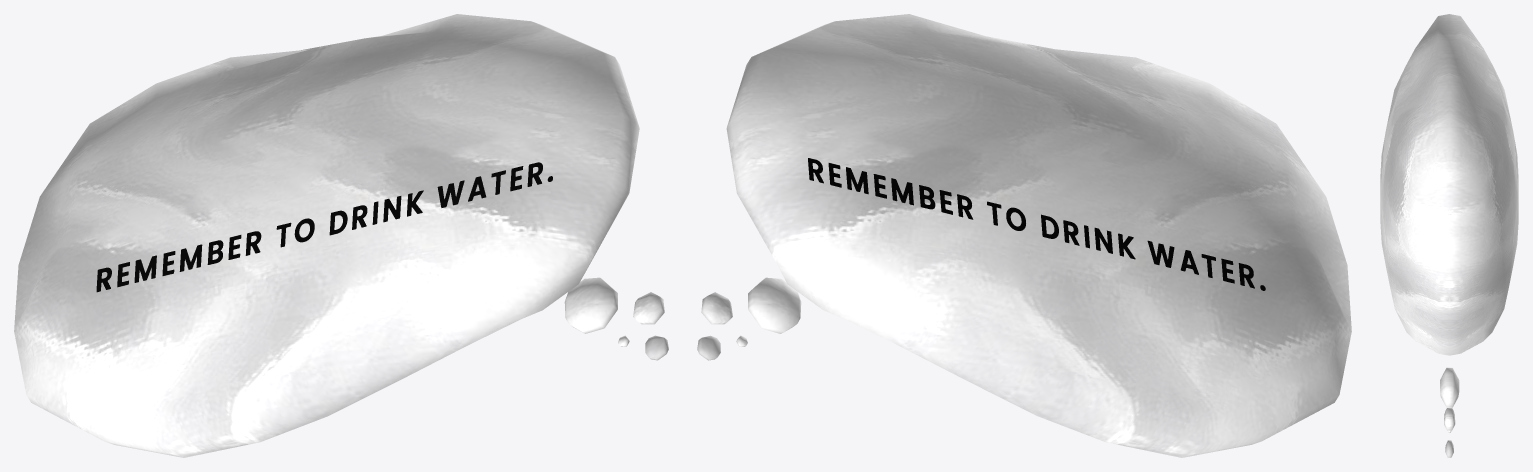
The model's file is s0_AG_BillboardText_03_Art_01.glb.
3 renders of one model, left to right at view 1: azimuth 30°, elevation 25°; view 2: azimuth 150°, elevation 25°; view 3: azimuth 270°, elevation 25°, orthographic. The views are drawn at different scales.
Visible parts, largest first — view 1: node_AG_BillboardText_03_Art; view 2: node_AG_BillboardText_03_Art; view 3: node_AG_BillboardText_03_Art.
Boxes of the visible parts, x1=… form: node_AG_BillboardText_03_Art: x1=14, y1=14, x2=668, y2=457; node_AG_BillboardText_03_Art: x1=697, y1=14, x2=1351, y2=457; node_AG_BillboardText_03_Art: x1=1380, y1=14, x2=1518, y2=457.
Size of the model in its own units: 2.31 by 1.36 by 0.6184.
2 materials, 2 textured.
